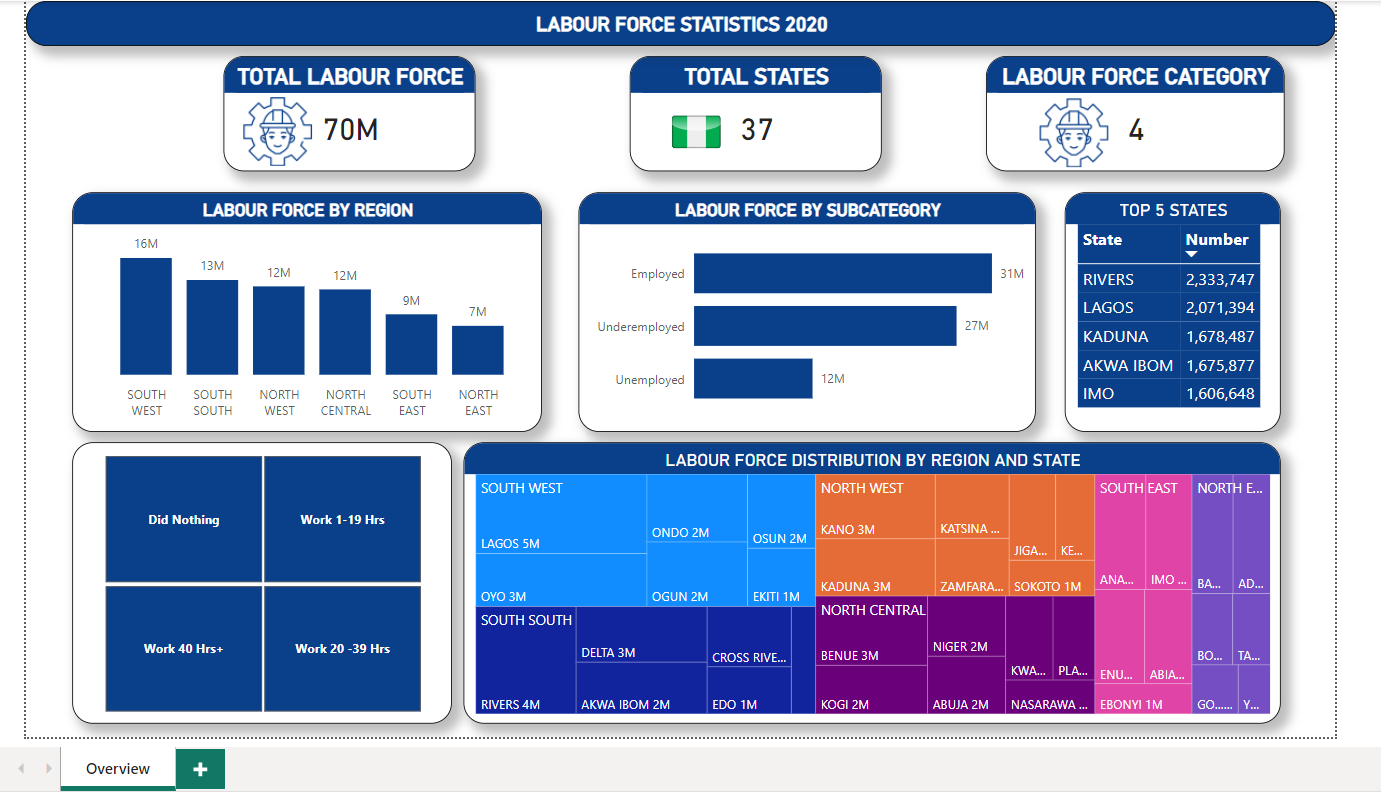

The dashboard page shown, as its layout file describes it:
{"tool":"powerbi","page":{"name":"Overview","canvas":[1280,720],"ordinal":0},"visuals":[{"type":"card","title":"TOTAL LABOUR FORCE","fields":{"Values":["Sum(Labour_Table.Number)"]},"box":[192.9,53.8,246.8,112.4],"z":0},{"type":"card","title":"TOTAL STATES","fields":{"Values":["Count(Labour_Table.State)"]},"box":[590.6,53.8,246.8,112.4],"z":1000},{"type":"card","title":"LABOUR FORCE CATEGORY","fields":{"Values":["Count(Labour_Table.Labour force category)"]},"box":[938.9,53.8,292,112.4],"z":2000,"group":"g1"},{"type":"clusteredColumnChart","title":"LABOUR FORCE BY REGION","fields":{"Y":["Sum(Labour_Table.Number)"],"Category":["State_Dim_Table.Region"]},"box":[45.2,186.5,459.3,234.4],"z":2000},{"type":"clusteredBarChart","title":"LABOUR FORCE BY SUBCATEGORY","fields":{"Category":["Labour_Table.Subcategory"],"Y":["Sum(Labour_Table.Number)"]},"box":[540.2,186.5,447,234.4],"z":3000},{"type":"tableEx","title":"TOP 5 STATES","fields":{"Values":["State_Dim_Table.State","Sum(Labour_Table.Number)"]},"box":[1015.9,186.5,211.1,234.4],"z":4000},{"type":"slicer","fields":{"Values":["Labour_Table.Labour force category"]},"box":[45.2,431.9,371.6,275.6],"z":5000},{"type":"treemap","title":"LABOUR FORCE DISTRIBUTION BY REGION AND STATE","fields":{"Group":["State_Dim_Table.Region"],"Values":["Sum(Labour_Table.Number)"],"Details":["State_Dim_Table.State"]},"box":[427.8,431.9,799.3,275.6],"z":6000},{"type":"image","box":[161.4,89.4,168.6,76.8],"z":7000},{"type":"textbox","box":[0,0,1281,44],"z":9000},{"type":"image","box":[940.4,90.8,168.6,76.8],"z":10000,"group":"g1"},{"type":"group","id":"g1","title":"Group 1","box":[938.9,53.8,292,113.8],"z":10000},{"type":"image","box":[573.3,97.8,163.8,59.9],"z":10001}]}

Visuals, with their boxes in screenshot pixels (x1, y1, x2, y2):
"TOTAL LABOUR FORCE" card: pyautogui.locateOnScreen(220, 52, 473, 167)
"TOTAL STATES" card: pyautogui.locateOnScreen(628, 52, 881, 167)
"LABOUR FORCE CATEGORY" card: pyautogui.locateOnScreen(985, 52, 1285, 167)
"LABOUR FORCE BY REGION" clusteredColumnChart: pyautogui.locateOnScreen(68, 188, 539, 428)
"LABOUR FORCE BY SUBCATEGORY" clusteredBarChart: pyautogui.locateOnScreen(576, 188, 1035, 428)
"TOP 5 STATES" tableEx: pyautogui.locateOnScreen(1064, 188, 1281, 428)
slicer - Labour_Table.Labour force category: pyautogui.locateOnScreen(68, 439, 449, 722)
"LABOUR FORCE DISTRIBUTION BY REGION AND STATE" treemap: pyautogui.locateOnScreen(461, 439, 1281, 722)
image: pyautogui.locateOnScreen(187, 88, 360, 167)
textbox: pyautogui.locateOnScreen(22, 0, 1336, 42)
image: pyautogui.locateOnScreen(987, 90, 1160, 168)
"Group 1" group: pyautogui.locateOnScreen(985, 52, 1285, 168)
image: pyautogui.locateOnScreen(610, 97, 778, 158)
